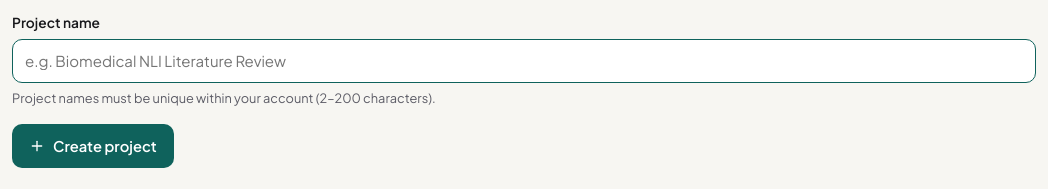
Test: CreateProjectForm › validates required and minimum length constraints
Click the button "Create project". click: x=93, y=146
box: [12,124,174,168]
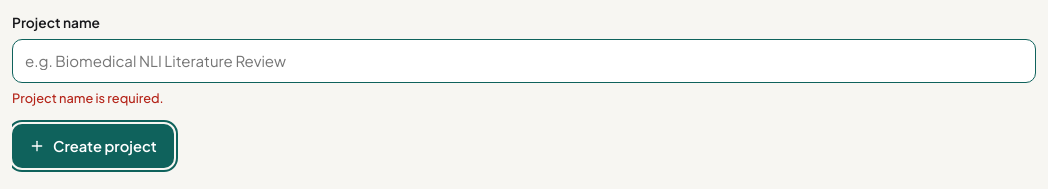
Expected: the text "Project name is required." is shown, [12,90,164,106]
Type "A" into the field labelled "Project name". click: x=524, y=61
box: [12,39,1036,83]
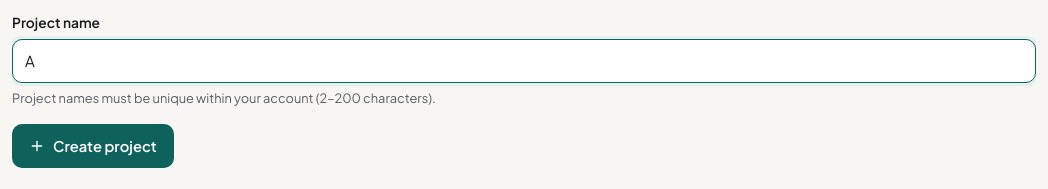
Click the button "Create project". click: x=93, y=146
box: [12,124,174,168]
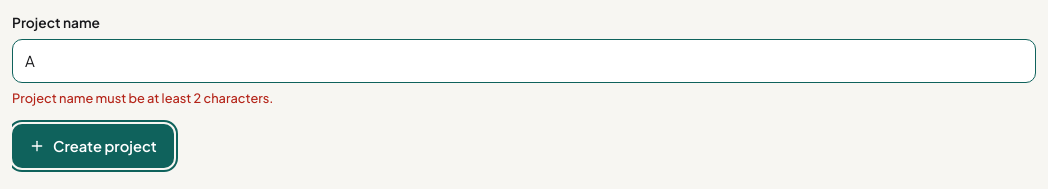
Expected: the text "Project name must be at least 2 characters." is shown, [12,90,273,106]
